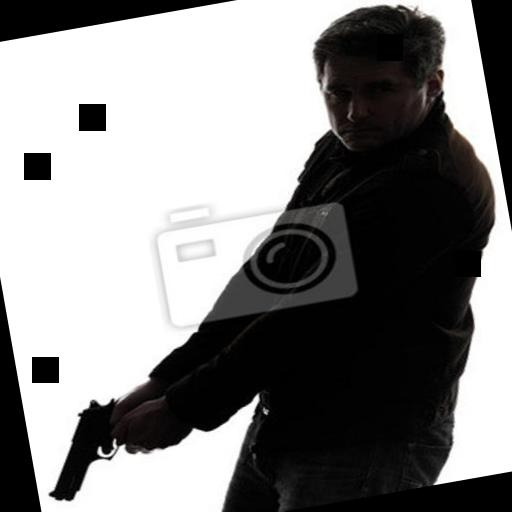Handgun: (33, 382, 143, 502)
